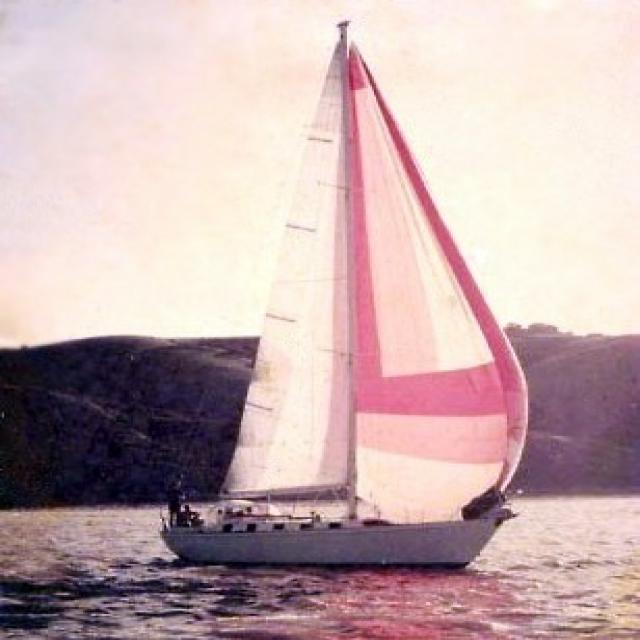Ship: (166, 28, 533, 577)
